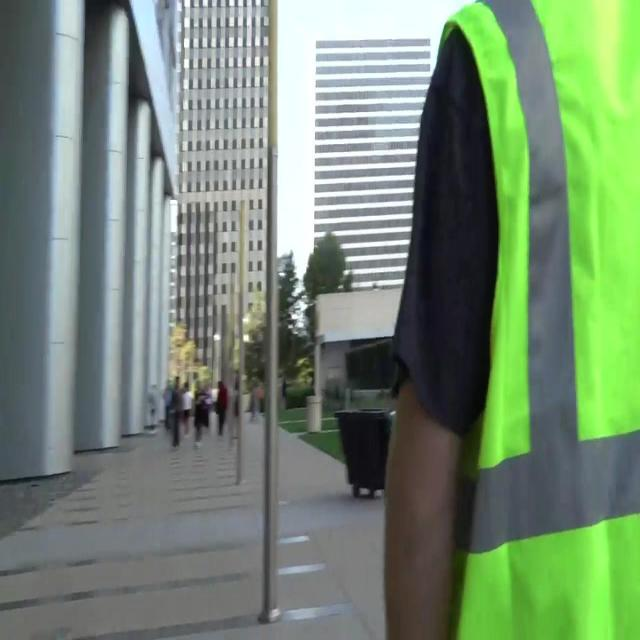Vest: (436, 2, 640, 637)
